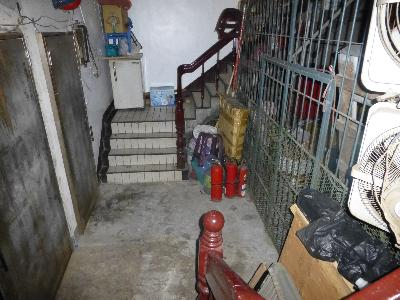box: (99, 2, 130, 35), (150, 85, 175, 106)
plastic_bag: (306, 192, 400, 277)
